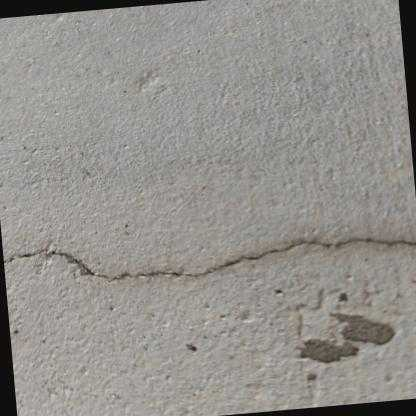crack: (4, 236, 416, 282)
